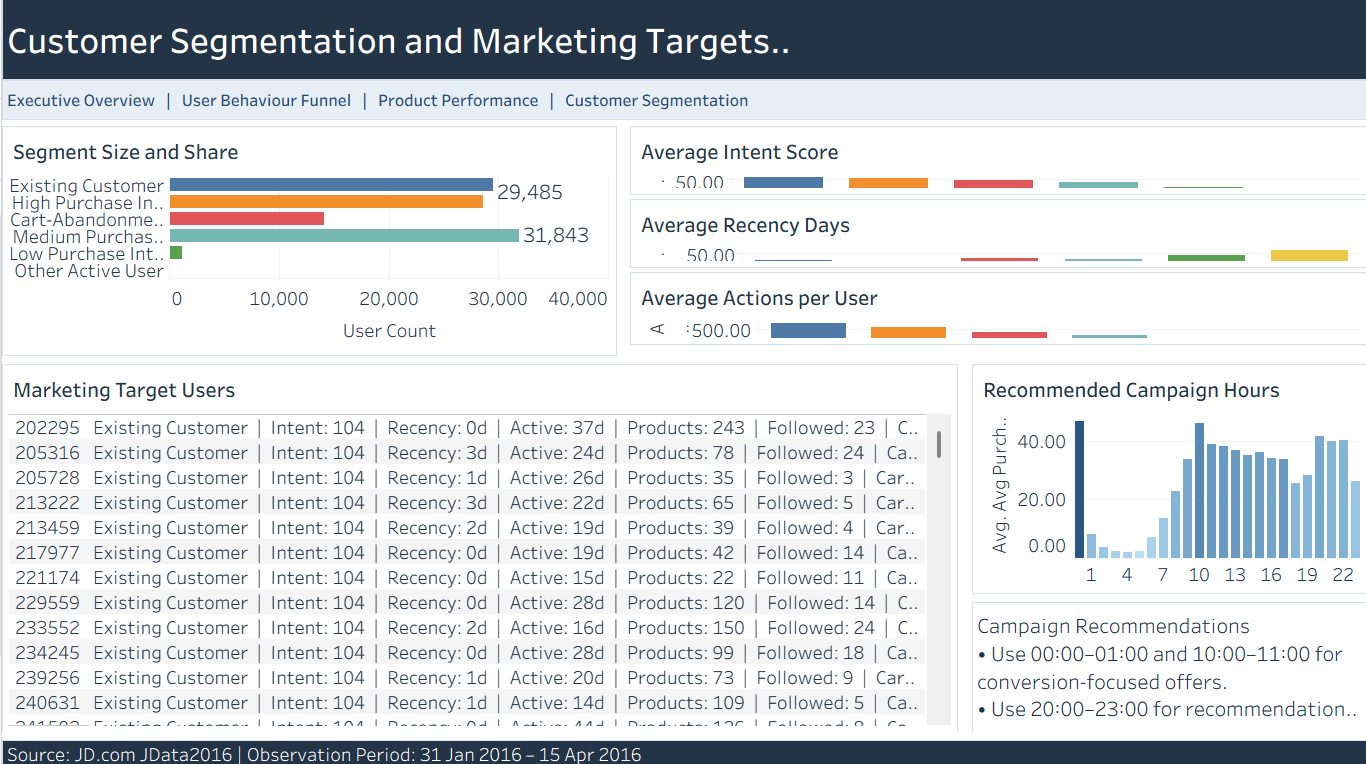

Layout of this report page (visuals, bound fields, positions):
{"tool":"tableau","page":{"name":"Customer Segmentation","canvas":[1366,768],"ordinal":0},"visuals":[{"type":"text","box":[0,0,1366,80.6]},{"type":"text","box":[0,80.6,1366,39.9]},{"type":"worksheet","title":"Segment Size and Share","mark":"Bar","rows":["customer_segment"],"cols":["user_count"],"box":[0,126.7,614.7,230.4]},{"type":"worksheet","title":"Average Intent Score","mark":"Bar","rows":["avg_intent_score"],"cols":["customer_segment"],"box":[628.4,126.7,737.6,69.1]},{"type":"worksheet","title":"Average Recency Days","mark":"Bar","rows":["avg_recency_days"],"cols":["customer_segment"],"box":[628.4,199.7,737.6,69.1]},{"type":"worksheet","title":"Average Actions per User","mark":"Bar","rows":["avg_actions_per_user"],"cols":["customer_segment"],"box":[628.4,272.6,737.6,73]},{"type":"worksheet","title":"Marketing Target Users","mark":"Automatic","rows":["user_id"],"box":[0,364.8,956.2,368.6]},{"type":"worksheet","title":"Recommended Campaign Hours","mark":"Bar","rows":["avg_purchase_count"],"cols":["hour_of_day"],"box":[969.9,364.8,396.1,230.4]},{"type":"text","box":[969.9,602.9,396.1,130.6]},{"type":"text","box":[0,741.1,1366,26.9]}]}

Visuals, with their boxes in screenshot pixels (x1, y1, x2, y2), scaled from the page's 1366x768 canvas onto the 1366x764 screenshot:
text: 0/0/1365/80
text: 0/80/1365/120
"Segment Size and Share" worksheet (Bar marks): 0/126/615/355
"Average Intent Score" worksheet (Bar marks): 628/126/1365/195
"Average Recency Days" worksheet (Bar marks): 628/199/1365/267
"Average Actions per User" worksheet (Bar marks): 628/271/1365/344
"Marketing Target Users" worksheet: 0/363/956/730
"Recommended Campaign Hours" worksheet (Bar marks): 970/363/1365/592
text: 970/600/1365/730
text: 0/737/1365/763
